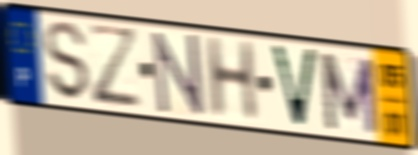H: (202, 33, 261, 122)
M: (317, 49, 381, 137)
N: (150, 30, 207, 118)
S: (42, 19, 92, 104)
V: (267, 41, 320, 133)
Z: (85, 20, 144, 109)
